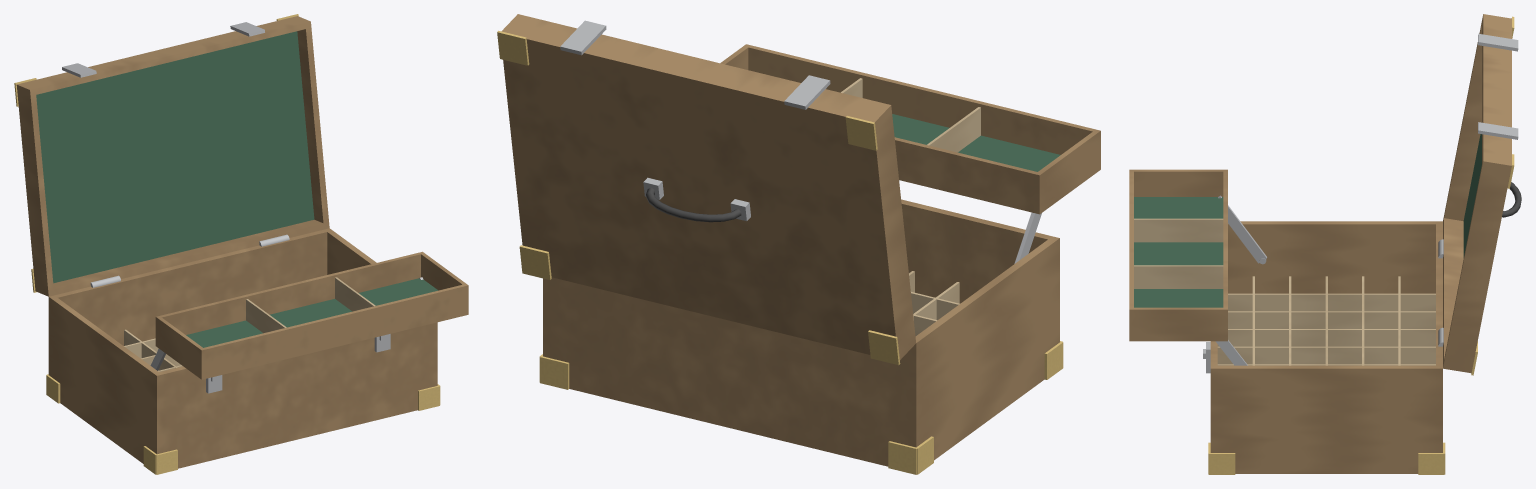
The model's file is tacklebox.fbx.
3 renders of one model, left to right at view 1: azimuth 30°, elevation 25°; view 2: azimuth 150°, elevation 25°; view 3: azimuth 270°, elevation 25°, orthographic. The views are drawn at different scales.
Visible parts, largest first — view 1: tacklebox; view 2: tacklebox; view 3: tacklebox.
Part boxes in pixels (x1,y1,x2,y2): tacklebox: (14,14,468,474); tacklebox: (497,14,1100,474); tacklebox: (1129,14,1521,474).
Bounding box in the file's own units: 60.8 × 60.45 × 67.58.
1 material, 1 textured.
